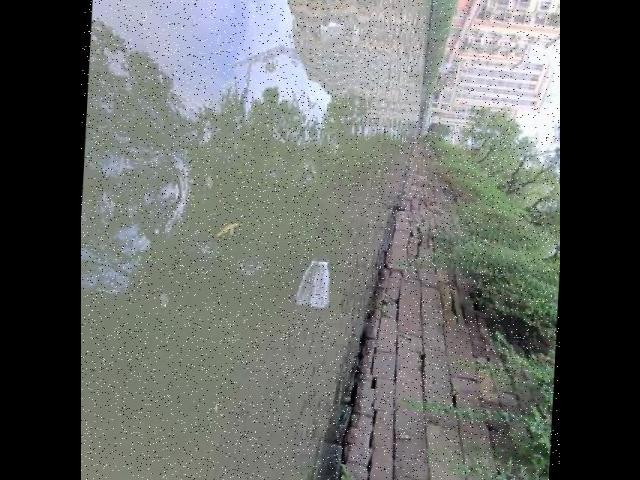Bottle: (304, 253, 334, 314)
